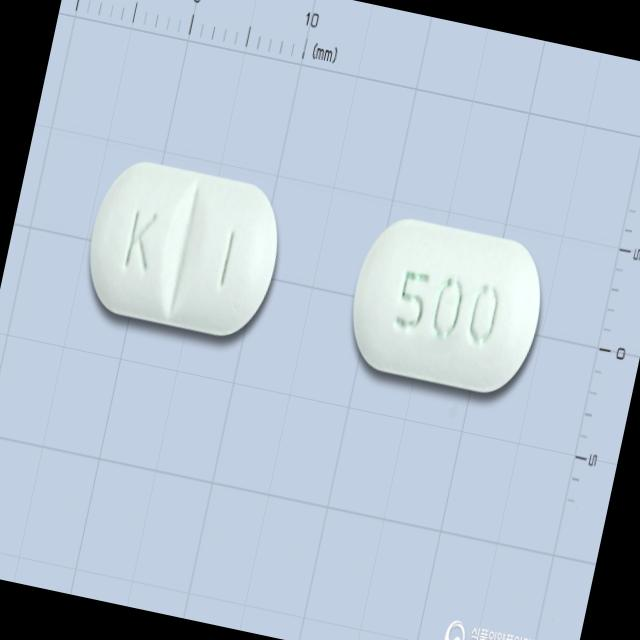Amocla: (72, 152, 296, 350), (340, 208, 555, 400)
